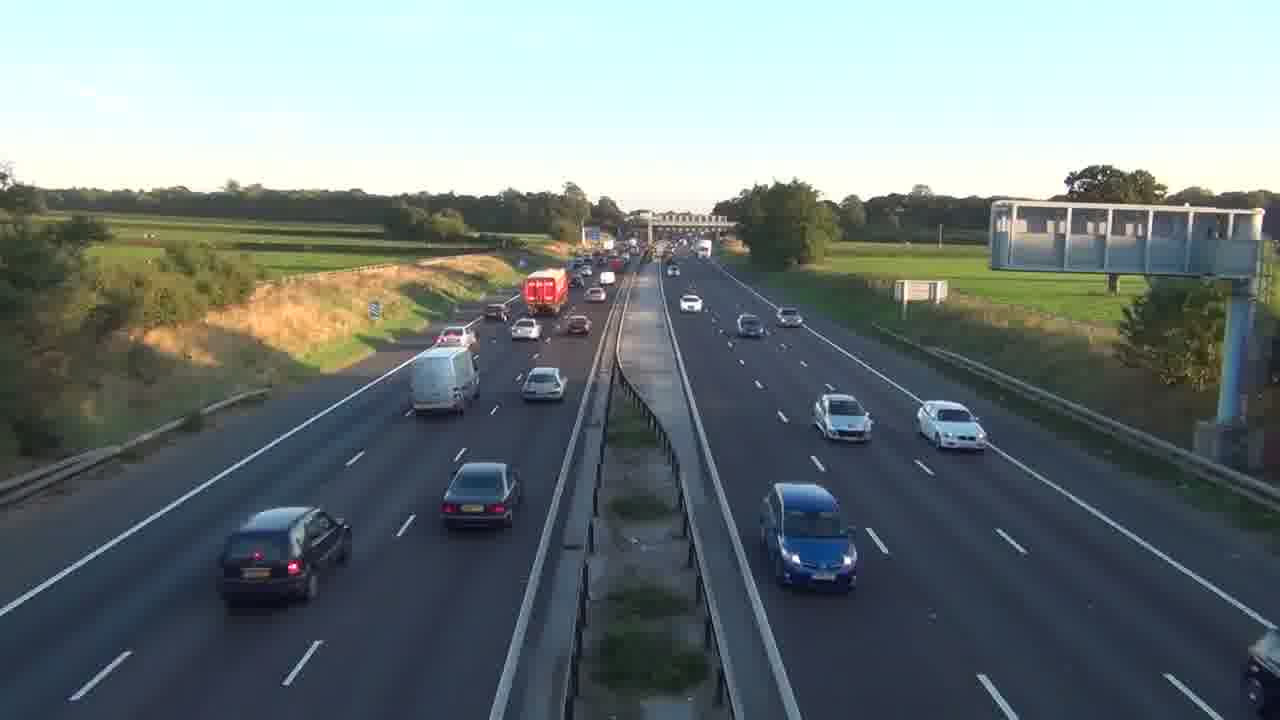bus: (521, 267, 570, 315)
car: (216, 504, 353, 606), (438, 460, 521, 531), (1241, 624, 1280, 719), (915, 398, 984, 451), (813, 394, 873, 443), (519, 367, 566, 402), (736, 312, 770, 340), (511, 317, 541, 340), (778, 306, 805, 327), (680, 293, 702, 312)
truck: (759, 480, 861, 594), (410, 346, 481, 416)
